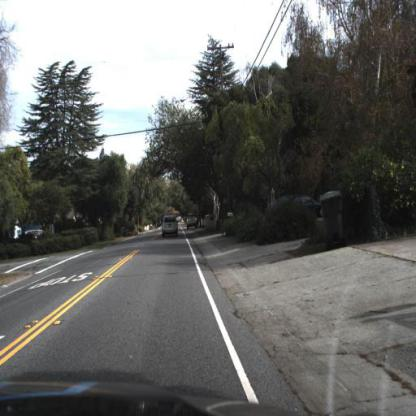car: (162, 213, 181, 237), (187, 213, 200, 232)
